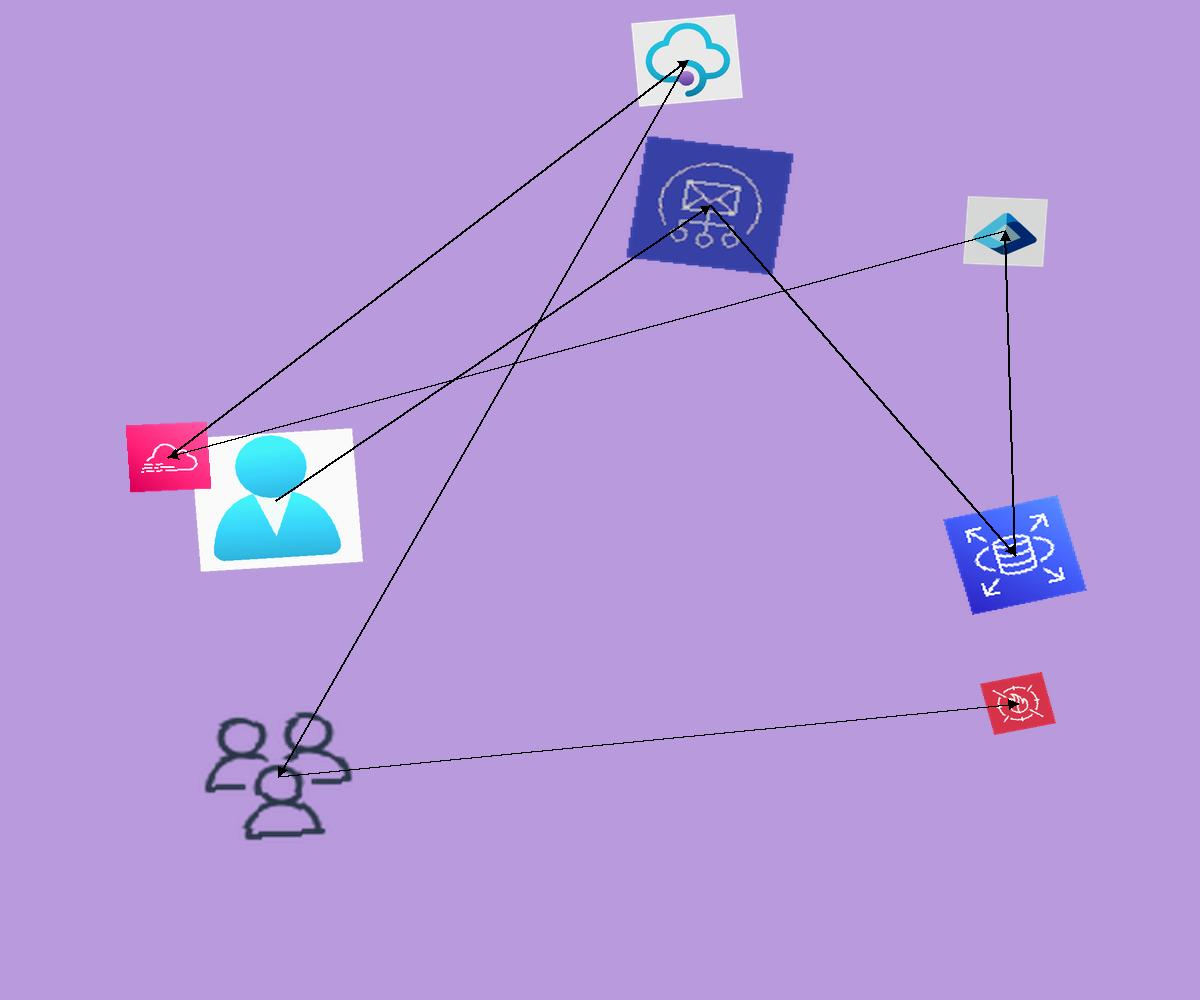AWS-CloudTrail: (125, 421, 212, 493)
AWS-RDS: (943, 495, 1087, 615)
AWS-Res_Users: (192, 704, 365, 848)
AWS-Simple-Email-Service: (625, 135, 795, 276)
AWS-WAF: (980, 672, 1056, 735)
Azure_api_gateway: (631, 14, 743, 107)
Azure_microsoft_entra: (963, 196, 1048, 267)
Azure_users: (190, 428, 363, 572)
